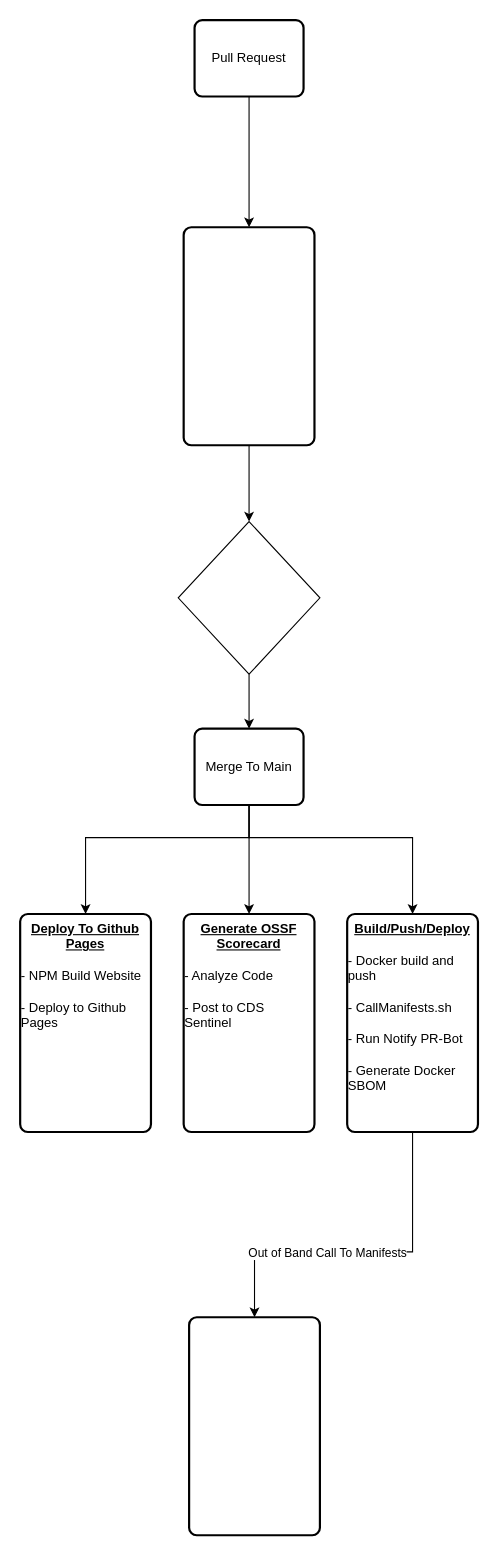
This 497x1554 diagram has some shape labels left out. Each missing label, with the centre of its shape:
"Deploy Review Page - Deploys to Github Pages for Review" belongs at pixel 248 336.
"MANIFESTS - Rollout Admin - Kubectl set image to docker tag" belongs at pixel 253 1426.
"Tests Passed and Approved?" belongs at pixel 248 597.
